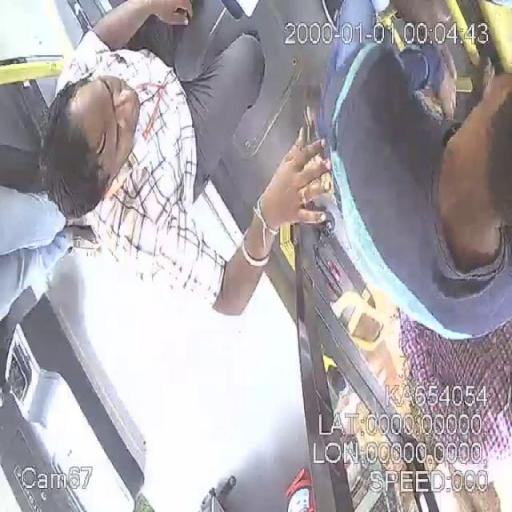persona: (314, 1, 512, 510), (37, 1, 335, 318)
